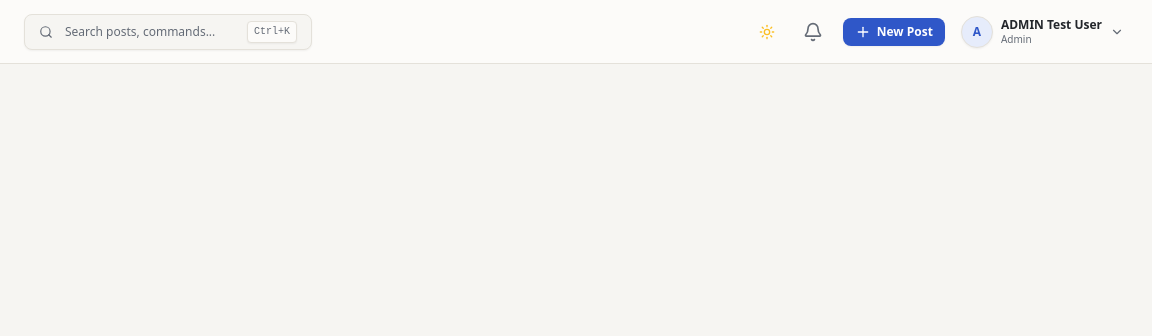
Test case: Adversarial Verification: TopBar & Profile Dropdown › toggles profile menu and respects role visibility for Admin Console
Expected: the text "Sign Out" is not shown
# Click profile button to open
Click the button "A ADMIN Test User admin". click: x=1042, y=32
box: [957,12,1128,52]
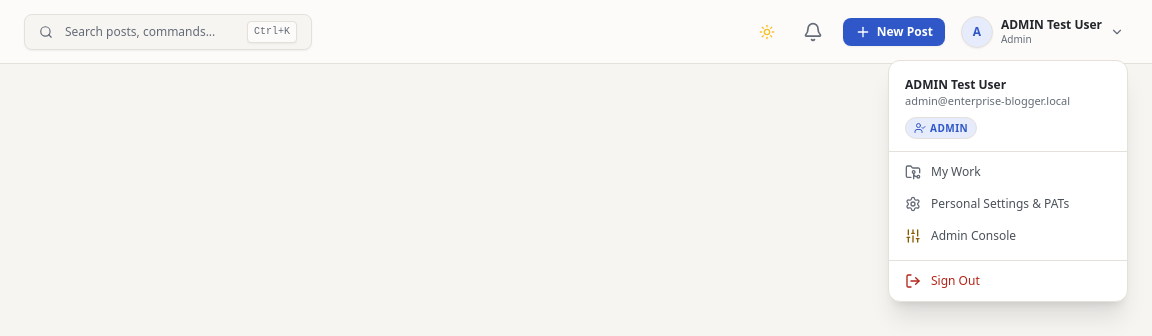
Expected: the text "Personal Settings & PATs" is shown, [931,196,1069,212]
Expected: the text "Admin Console" is shown, [931,228,1016,244]
Expected: the text "Sign Out" is shown, [931,272,980,288]
